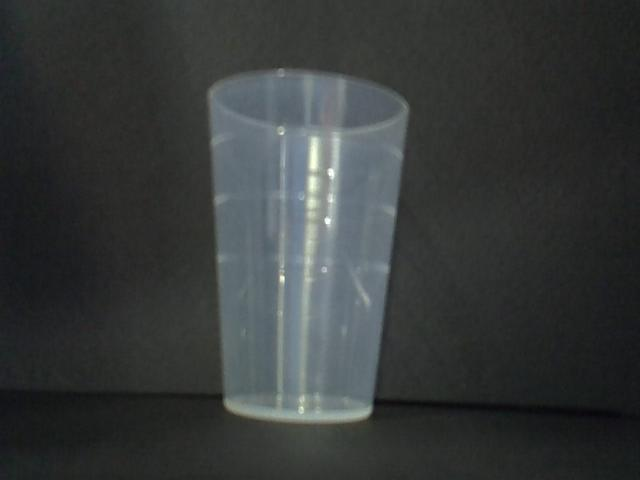cup: (205, 66, 412, 422)
